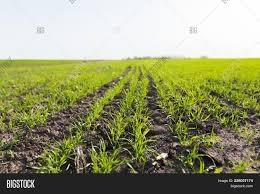field: (0, 59, 259, 174)
